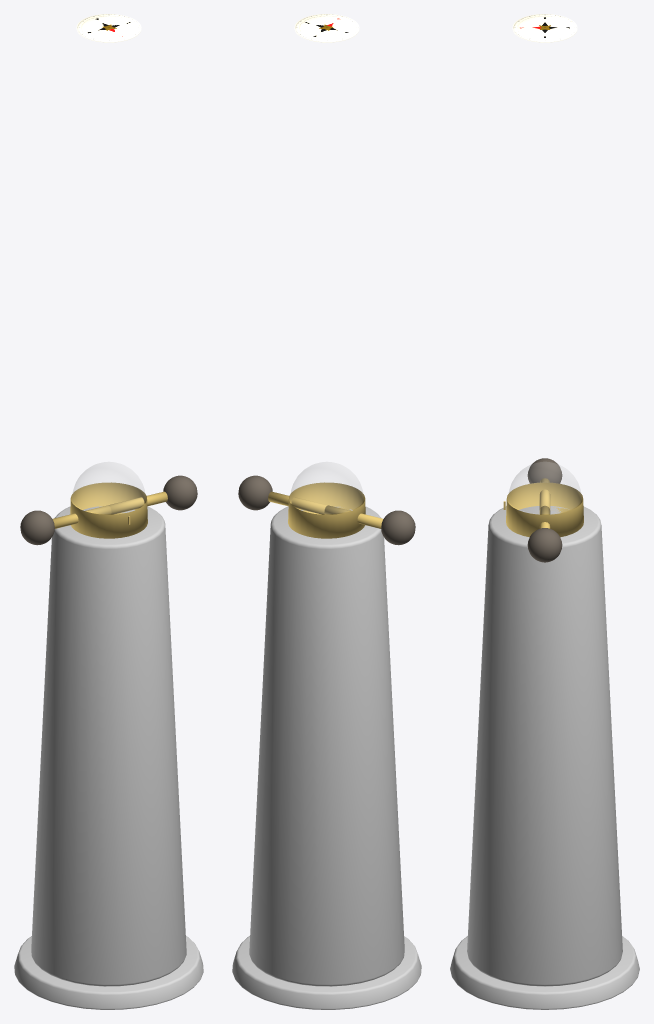
Rendered from Compass_VR_v1.0.glb.
The picture shows the model from 3 angles, left to right: view 1: azimuth 30°, elevation 25°; view 2: azimuth 150°, elevation 25°; view 3: azimuth 270°, elevation 25°; orthographic projection.
Visible parts, largest first — view 1: compass_pedestal, compass_base, compass_bowl, glass_dome, compass_card, kelvin_ball_left, kelvin_ball_right, kelvin_arm_right, kelvin_arm_left; view 2: compass_pedestal, compass_base, compass_bowl, glass_dome, compass_card, kelvin_ball_left, kelvin_ball_right, kelvin_arm_right, kelvin_arm_left; view 3: compass_pedestal, compass_base, compass_bowl, glass_dome, compass_card, kelvin_ball_right, kelvin_ball_left.
Boxes of the visible parts, x1=… form: compass_pedestal: x1=31, y1=506, x2=186, y2=986; compass_base: x1=14, y1=936, x2=203, y2=1009; compass_bowl: x1=70, y1=482, x2=147, y2=538; glass_dome: x1=72, y1=462, x2=144, y2=513; compass_card: x1=76, y1=14, x2=141, y2=42; kelvin_ball_left: x1=20, y1=510, x2=54, y2=545; kelvin_ball_right: x1=163, y1=475, x2=197, y2=510; kelvin_arm_right: x1=108, y1=491, x2=167, y2=514; kelvin_arm_left: x1=52, y1=505, x2=111, y2=528; compass_pedestal: x1=249, y1=506, x2=404, y2=986; compass_base: x1=232, y1=936, x2=421, y2=1009; compass_bowl: x1=288, y1=482, x2=365, y2=538; glass_dome: x1=291, y1=462, x2=363, y2=513; compass_card: x1=294, y1=14, x2=359, y2=42; kelvin_ball_left: x1=381, y1=510, x2=415, y2=545; kelvin_ball_right: x1=238, y1=475, x2=272, y2=510; kelvin_arm_right: x1=268, y1=491, x2=327, y2=514; kelvin_arm_left: x1=324, y1=505, x2=383, y2=528; compass_pedestal: x1=467, y1=506, x2=622, y2=986; compass_base: x1=450, y1=936, x2=639, y2=1009; compass_bowl: x1=506, y1=482, x2=583, y2=537; glass_dome: x1=508, y1=462, x2=581, y2=513; compass_card: x1=512, y1=14, x2=577, y2=42; kelvin_ball_right: x1=527, y1=528, x2=562, y2=562; kelvin_ball_left: x1=527, y1=458, x2=562, y2=483.
Bounding box in the file's own units: 0.46 × 2.4 × 0.4373.
Materials: 5 (1 with a texture image).
